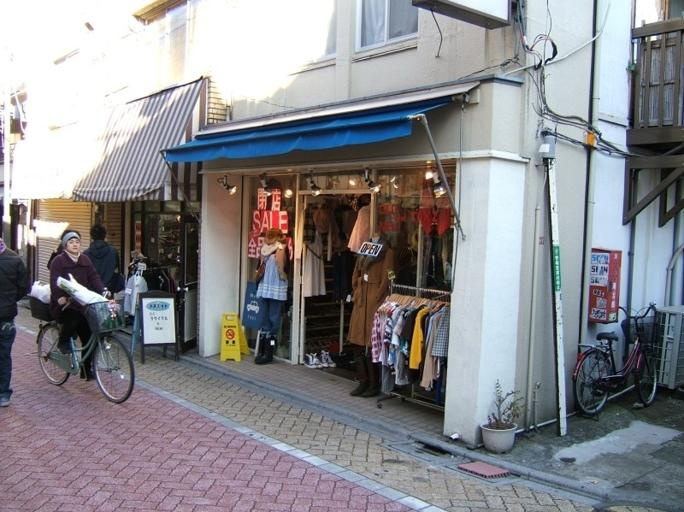non-vehicle: (26, 287, 136, 405), (570, 299, 666, 422)
